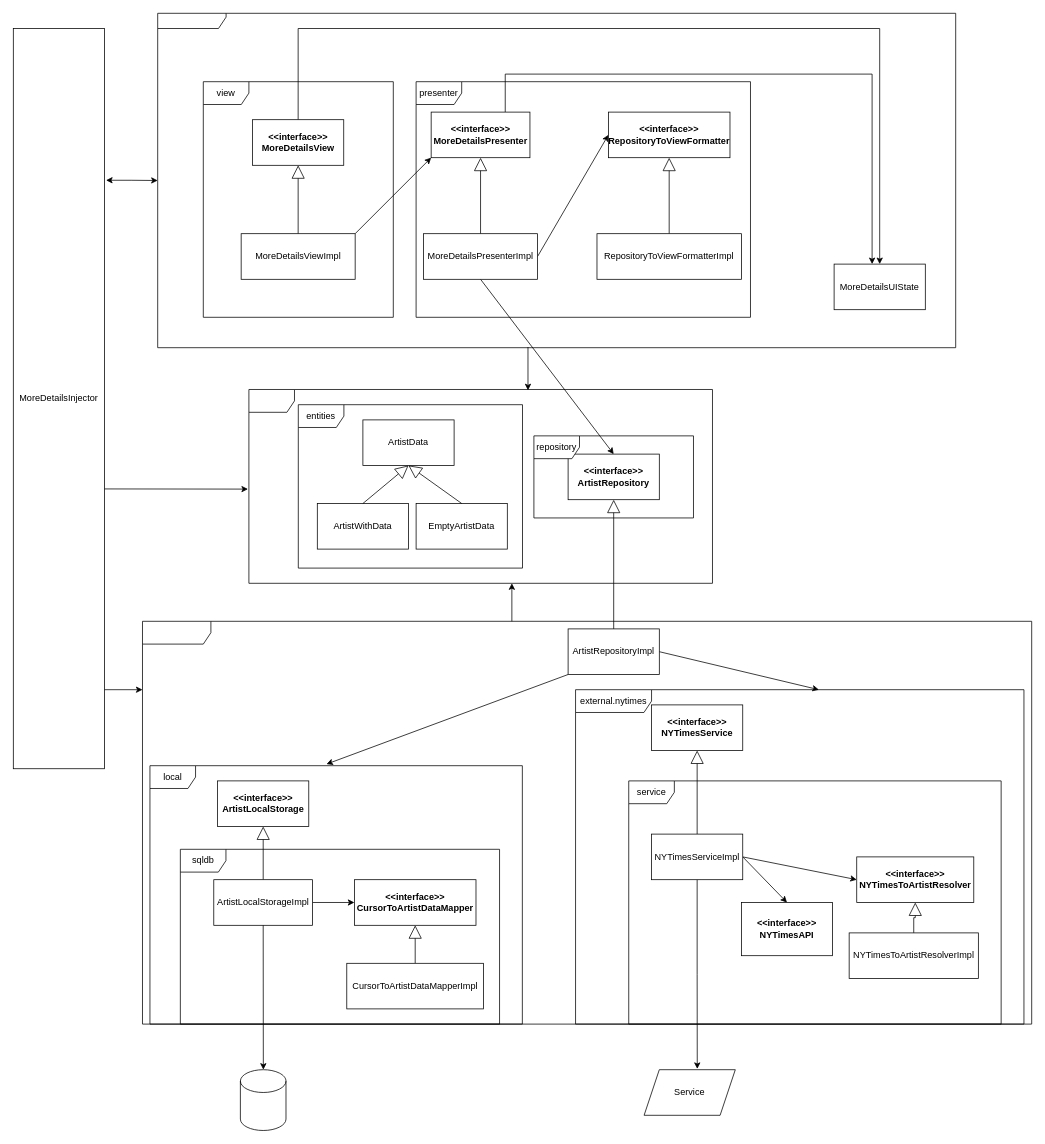
Image size: 1045x1144. Some labels were removed from this diagram. Here are the shapes that lost their labels. From the top down, the centre of each, then its label:
At (x=556, y=180): "presentation".
At (x=480, y=486): "domain".
At (x=587, y=822): "data.repository".
At (x=263, y=1099): "Database".
